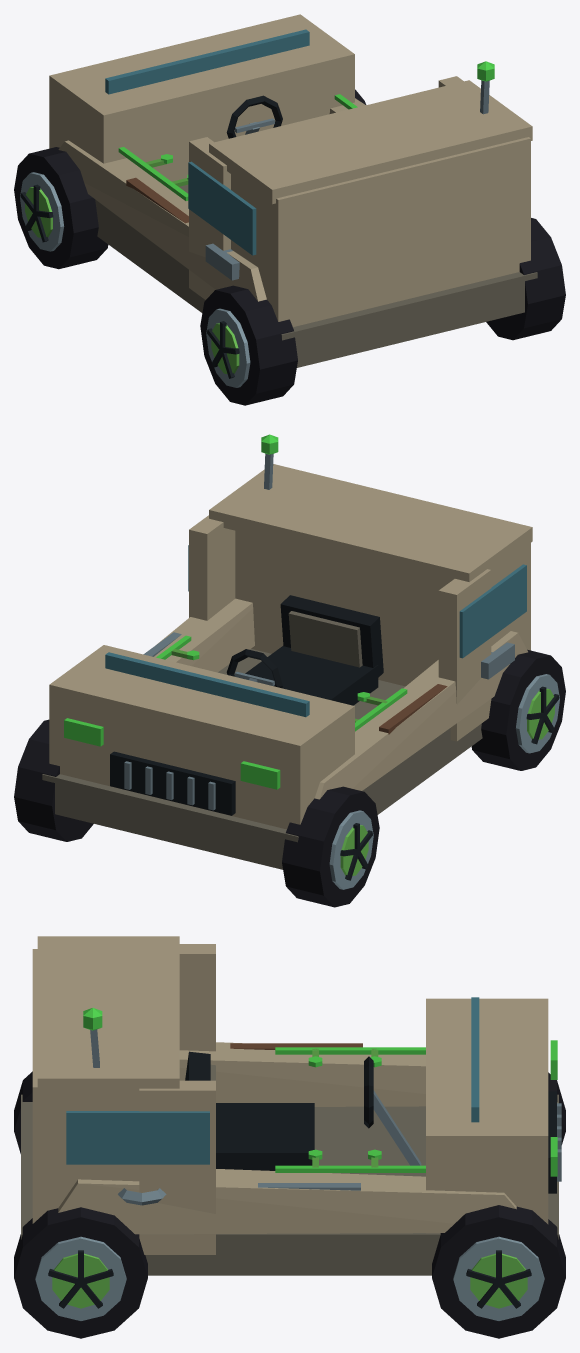
Rendered from kart.glb.
3 renders of one model, top to bottom at view 1: azimuth 30°, elevation 25°; view 2: azimuth 150°, elevation 25°; view 3: azimuth 270°, elevation 25°, orthographic. The views are drawn at different scales.
Visible parts, largest first — view 1: identity-van-van-utility-body, wheel-rear-left, wheel-front-left, wheel-rear-right, identity-van-motif-tools, identity-van-motif-circuit, identity-van-driver-cockpit, identity-van-motif-antenna; view 2: identity-van-van-utility-body, identity-van-driver-cockpit, wheel-front-left, wheel-rear-left, wheel-front-right, identity-van-motif-tools, identity-van-motif-circuit, identity-van-motif-antenna; view 3: identity-van-van-utility-body, wheel-front-right, wheel-rear-right, identity-van-driver-cockpit, identity-van-motif-circuit, identity-van-motif-tools, identity-van-motif-antenna, wheel-rear-left.
Boxes of the visible parts, bbox=[...] form: identity-van-van-utility-body: bbox=[49, 14, 537, 367]; wheel-rear-left: bbox=[200, 285, 297, 405]; wheel-front-left: bbox=[14, 147, 108, 269]; wheel-rear-right: bbox=[486, 218, 565, 340]; identity-van-motif-tools: bbox=[126, 177, 239, 280]; identity-van-motif-circuit: bbox=[118, 94, 357, 200]; identity-van-driver-cockpit: bbox=[226, 95, 282, 138]; identity-van-motif-antenna: bbox=[477, 61, 494, 114]; identity-van-van-utility-body: bbox=[42, 464, 532, 869]; identity-van-driver-cockpit: bbox=[226, 595, 383, 705]; wheel-front-left: bbox=[282, 786, 379, 907]; wheel-rear-left: bbox=[471, 649, 565, 770]; wheel-front-right: bbox=[14, 719, 93, 841]; identity-van-motif-tools: bbox=[143, 632, 514, 734]; identity-van-motif-circuit: bbox=[156, 635, 407, 731]; identity-van-motif-antenna: bbox=[261, 434, 278, 489]; identity-van-van-utility-body: bbox=[21, 936, 561, 1275]; wheel-front-right: bbox=[432, 1205, 565, 1338]; wheel-rear-right: bbox=[14, 1207, 147, 1338]; identity-van-driver-cockpit: bbox=[185, 1051, 421, 1170]; identity-van-motif-circuit: bbox=[275, 1047, 425, 1172]; identity-van-motif-tools: bbox=[118, 1043, 362, 1205]; identity-van-motif-antenna: bbox=[83, 1008, 102, 1067]; wheel-rear-left: bbox=[14, 1071, 32, 1153].
Bounding box in the file's own units: 2.13 × 1.72 × 2.8.
